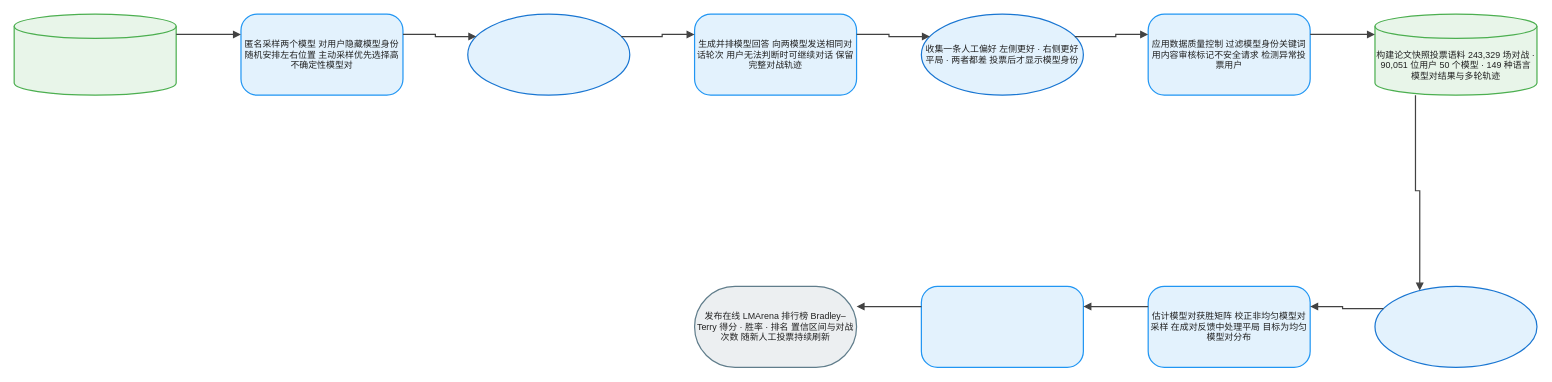
This 1552x382 diagram has some shape labels left out. Here are the shapes that lost their labels. From the top down, the box of each, then its label:
(13, 13, 176, 95): 维护在线模型池 包含开放与闭源聊天模型 论文快照超过 50 个模型 持续接入新模型
(467, 13, 630, 95): 众包自由形式用户提示 不预设问题或固定评分量表 支持多轮对话 覆盖真实用法与百余种语言
(920, 285, 1084, 368): 拟合 Bradley–Terry 得分 加权最大似然估计 稳健三明治置信区间 生成不确定性感知近似排名
(1374, 285, 1537, 368): 验证众包投票质量 专家盲标复核 160 场对战 允许使用外部资源核查事实 众包与专家一致率 72–83%
